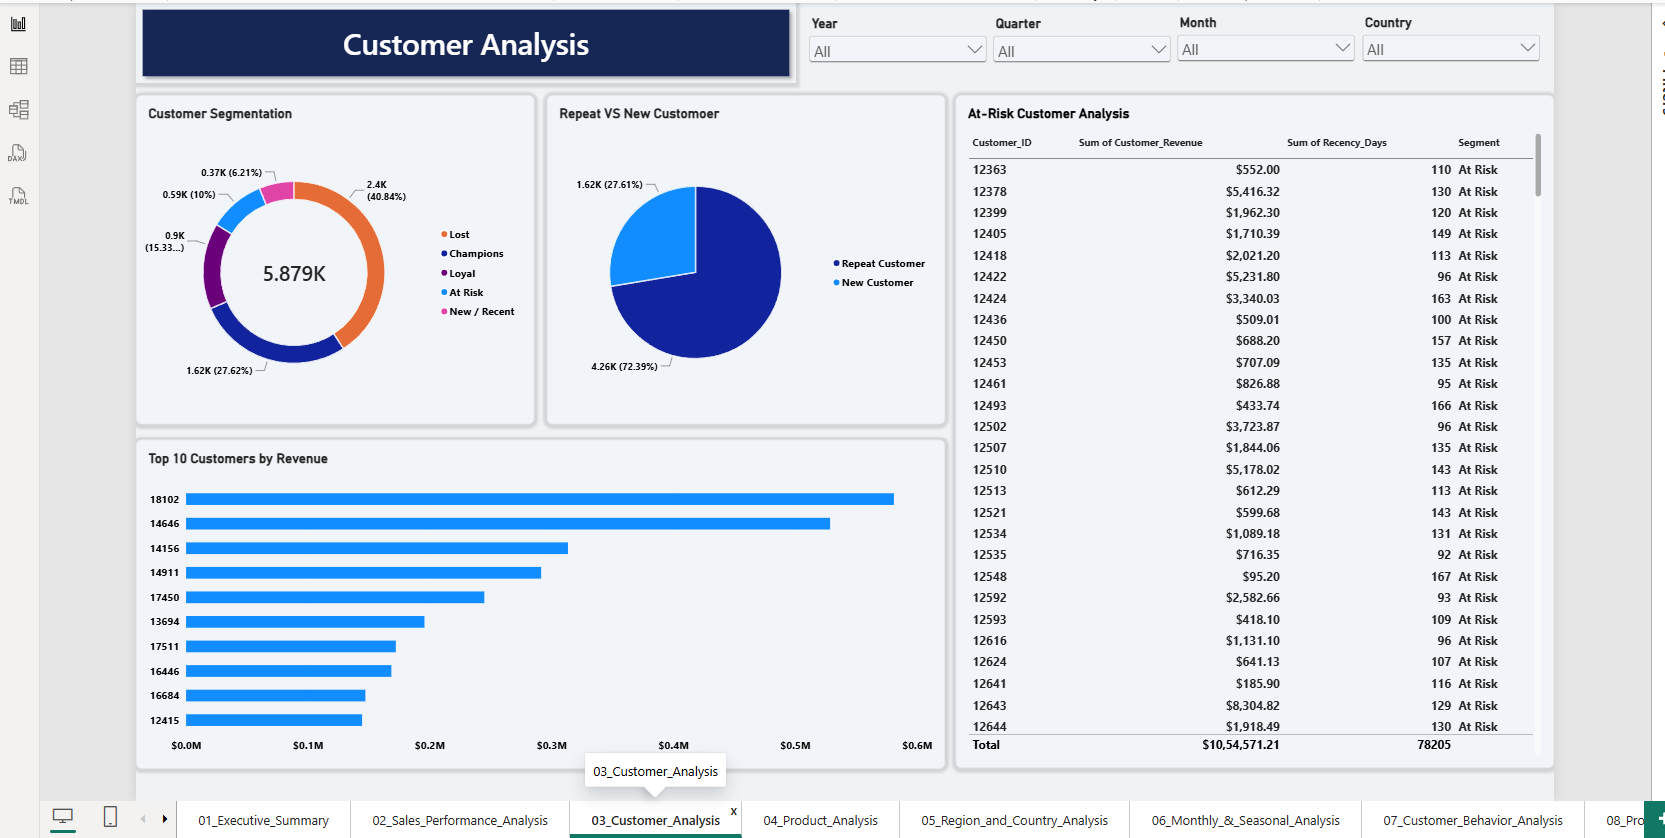

This screenshot's page, from the dashboard's own definition file:
{"tool":"powerbi","page":{"name":"03_Customer_Analysis","canvas":[1920,1080],"ordinal":2},"visuals":[{"type":"shape","box":[0,0,893.5,108.1],"z":0},{"type":"slicer","fields":{"Values":["Date.Quarter"]},"box":[1156.3,18,249.7,74.3],"z":1000},{"type":"slicer","fields":{"Values":["Date.Year"]},"box":[907.2,17.4,249.7,74.3],"z":2000},{"type":"slicer","fields":{"Values":["Sales.Country"]},"box":[1656.3,15.8,249.7,74.3],"z":3000},{"type":"slicer","fields":{"Values":["Date.Month"]},"box":[1405.6,16.5,249.7,74.3],"z":4000},{"type":"donutChart","title":"Customer Segmentation","fields":{"Category":["Customers.Segment"],"Y":["CountNonNull(Customers.Customer_ID)"]},"box":[0,125.1,539,446],"z":5000},{"type":"barChart","title":"Top 10 Customers by Revenue","fields":{"Category":["Customers.Customer_ID"],"Y":["KPI Measures.Total Revenue"]},"box":[0,590.4,1095.7,446],"z":6000},{"type":"pieChart","title":"Repeat VS New Customoer","fields":{"Category":["Customers.Customer Type"],"Y":["CountNonNull(Customers.Customer_ID)"]},"box":[556.7,125.1,539,446],"z":7000},{"type":"tableEx","title":"At-Risk Customer Analysis","fields":{"Values":["Customers.Customer_ID","Sum(Customers.Customer_Revenue)","Sum(Customers.Recency_Days)","Customers.Segment"]},"box":[1110.1,125.1,810.1,911.2],"z":8000}]}

Visuals, with their boxes on the page's 1920x1080 design canvas (x1, y1, x2, y2). These are canvas units, not pixel positions in the 1665x838 screenshot, which may show the page scaled, cropped or inside an application window:
shape: box=[0, 0, 894, 108]
slicer - Date.Quarter: box=[1156, 18, 1406, 92]
slicer - Date.Year: box=[907, 17, 1157, 92]
slicer - Sales.Country: box=[1656, 16, 1906, 90]
slicer - Date.Month: box=[1406, 16, 1655, 91]
"Customer Segmentation" donutChart: box=[0, 125, 539, 571]
"Top 10 Customers by Revenue" barChart: box=[0, 590, 1096, 1036]
"Repeat VS New Customoer" pieChart: box=[557, 125, 1096, 571]
"At-Risk Customer Analysis" tableEx: box=[1110, 125, 1920, 1036]
